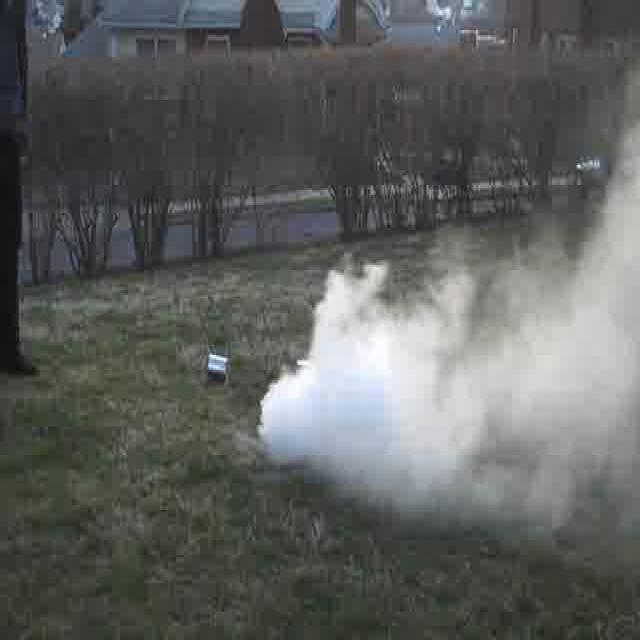Smoke: (255, 255, 638, 527)
